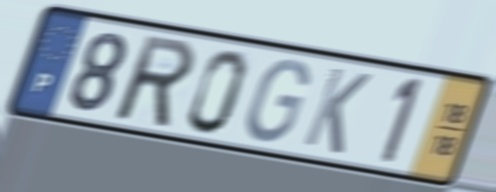0: (185, 47, 252, 137)
1: (379, 75, 425, 167)
8: (69, 29, 130, 114)
G: (243, 57, 312, 146)
K: (299, 63, 375, 158)
R: (114, 32, 199, 131)
